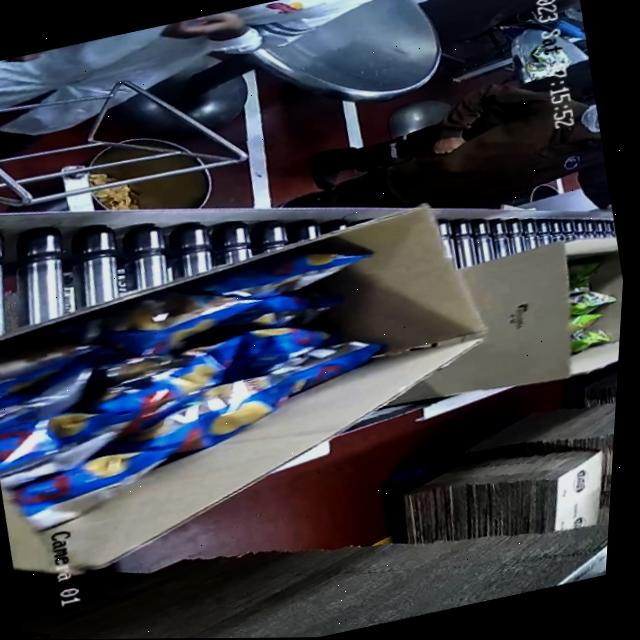PAPRIKA: (0, 234, 400, 517)
